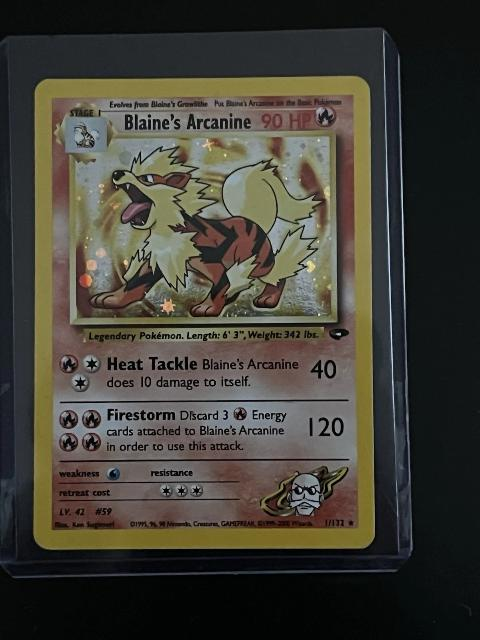Card: (30, 73, 380, 555)
Name: (119, 110, 255, 134)
